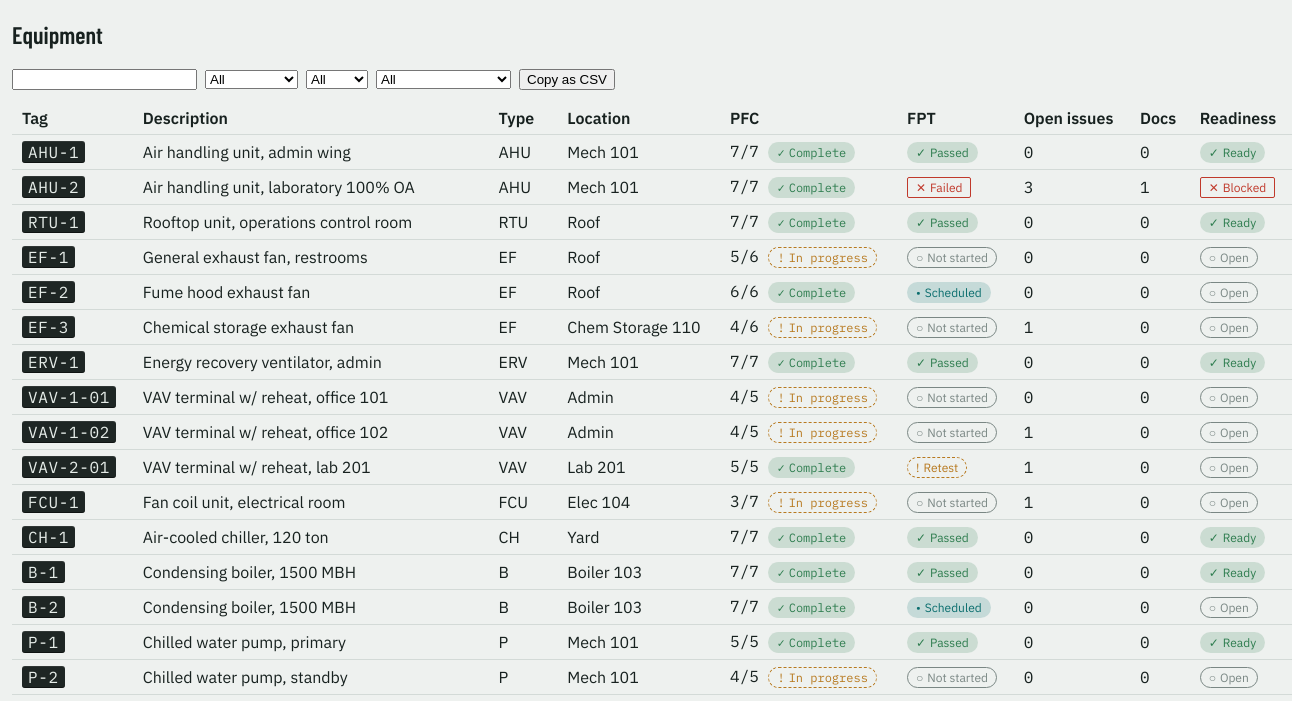
Test: Equipment register › lists units with nameplates and filters by search
This screenshot has width=1292, height=701.
In the search field named "search": (104, 79) [12,69,197,90], type "greenheck"
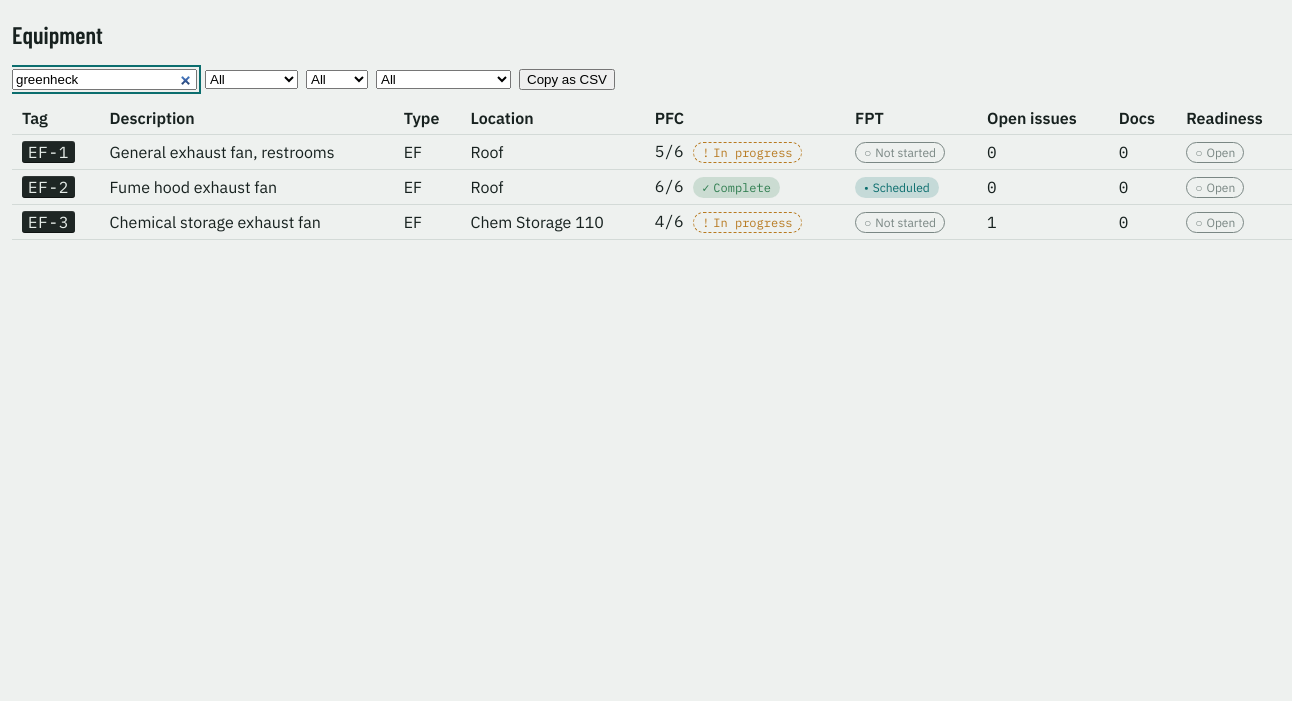
Now the number of rows is 4, box [12,102,1291,134]; [12,134,1291,169]; [12,169,1291,204]; [12,204,1291,239]
